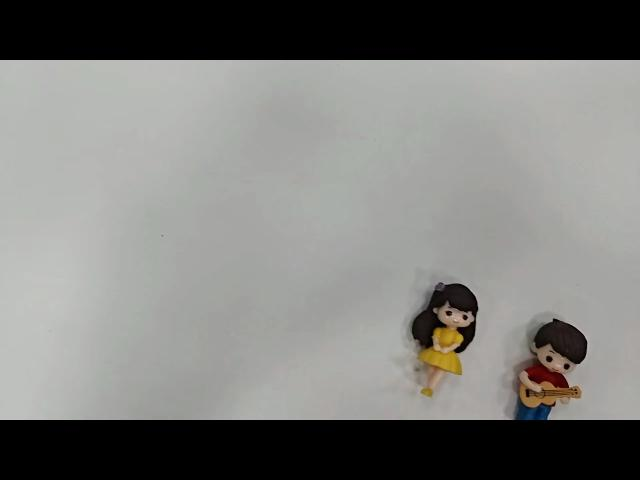man: (515, 312, 591, 420)
woman: (408, 277, 480, 400)
